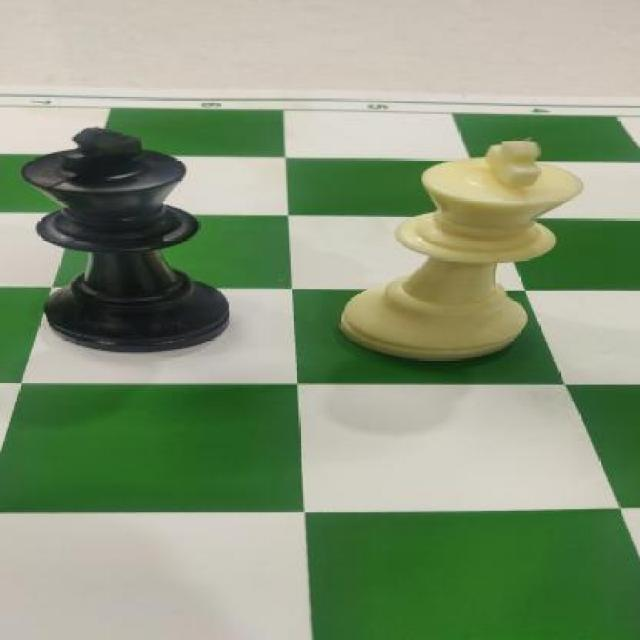black-king: (21, 126, 231, 354)
white-king: (339, 138, 586, 364)
